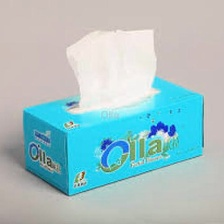book: (17, 70, 209, 200)
tissue: (59, 22, 162, 116)
